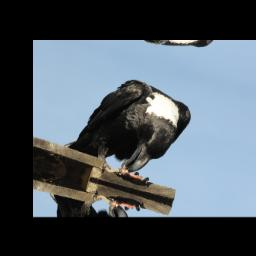Crow: (59, 63, 200, 193)
